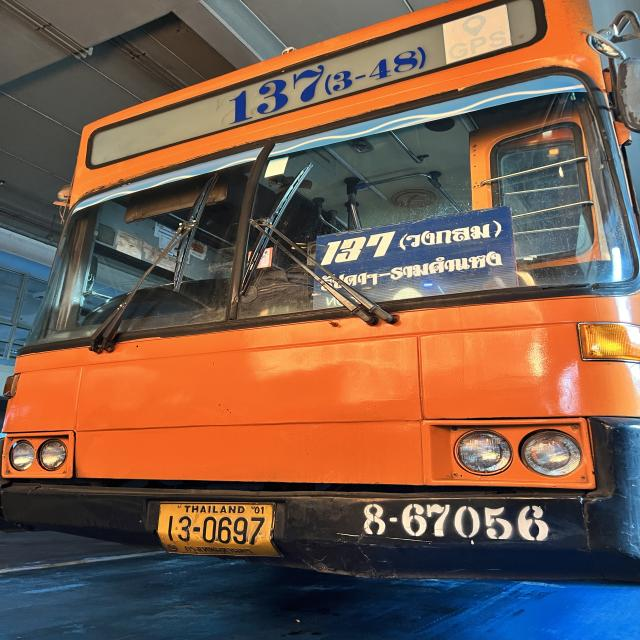BMTA-bus: (0, 0, 640, 589)
Bus-Line-Number: (224, 30, 429, 130)
Destination-Sign-Normal: (314, 203, 512, 309)
